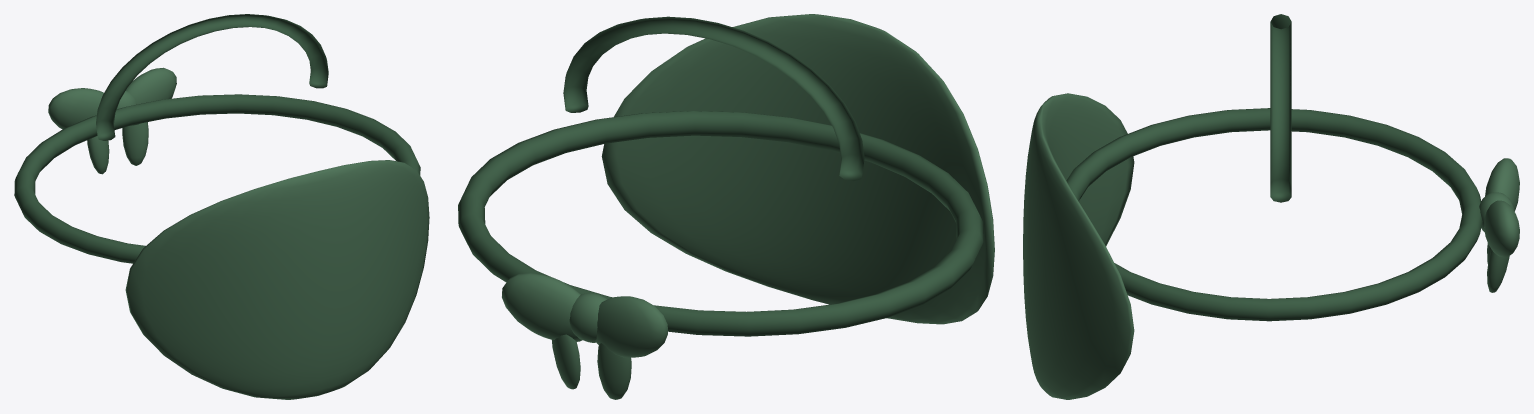
Rendered from green_apron.glb.
3 renders of one model, left to right at view 1: azimuth 30°, elevation 25°; view 2: azimuth 150°, elevation 25°; view 3: azimuth 270°, elevation 25°, orthographic. The views are drawn at different scales.
Parts seen in each view (by area): view 1: ApronShield, WaistBelt, NeckStrap, BackBowLoop_-1, BackBowLoop_1, BackBowTail_1, BackBowTail_-1; view 2: ApronShield, WaistBelt, NeckStrap, BackBowLoop_1, BackBowLoop_-1, BackBowTail_-1, BackKnot, BackBowTail_1; view 3: ApronShield, WaistBelt, NeckStrap, BackBowLoop_1, BackBowLoop_-1, BackBowTail_1.
Part boxes in pixels (left/top/right/bottom): ApronShield: left=125, top=160, right=429, bottom=399; WaistBelt: left=14, top=94, right=420, bottom=263; NeckStrap: left=96, top=14, right=328, bottom=140; BackBowLoop_-1: left=48, top=88, right=103, bottom=129; BackBowLoop_1: left=126, top=67, right=176, bottom=126; BackBowTail_1: left=122, top=122, right=148, bottom=165; BackBowTail_-1: left=87, top=136, right=109, bottom=174; ApronShield: left=601, top=14, right=994, bottom=324; WaistBelt: left=458, top=111, right=983, bottom=336; NeckStrap: left=563, top=16, right=864, bottom=180; BackBowLoop_1: left=502, top=273, right=582, bottom=341; BackBowLoop_-1: left=595, top=296, right=667, bottom=357; BackBowTail_-1: left=597, top=343, right=631, bottom=399; BackKnot: left=569, top=293, right=606, bottom=342; BackBowTail_1: left=552, top=334, right=580, bottom=389; ApronShield: left=1023, top=93, right=1134, bottom=399; WaistBelt: left=1066, top=108, right=1482, bottom=321; NeckStrap: left=1270, top=14, right=1291, bottom=202; BackBowLoop_1: left=1484, top=200, right=1519, bottom=257; BackBowLoop_-1: left=1485, top=158, right=1519, bottom=211; BackBowTail_1: left=1487, top=249, right=1509, bottom=292.
Bounding box in the file's own units: 0.8075 × 0.6377 × 0.8434.
